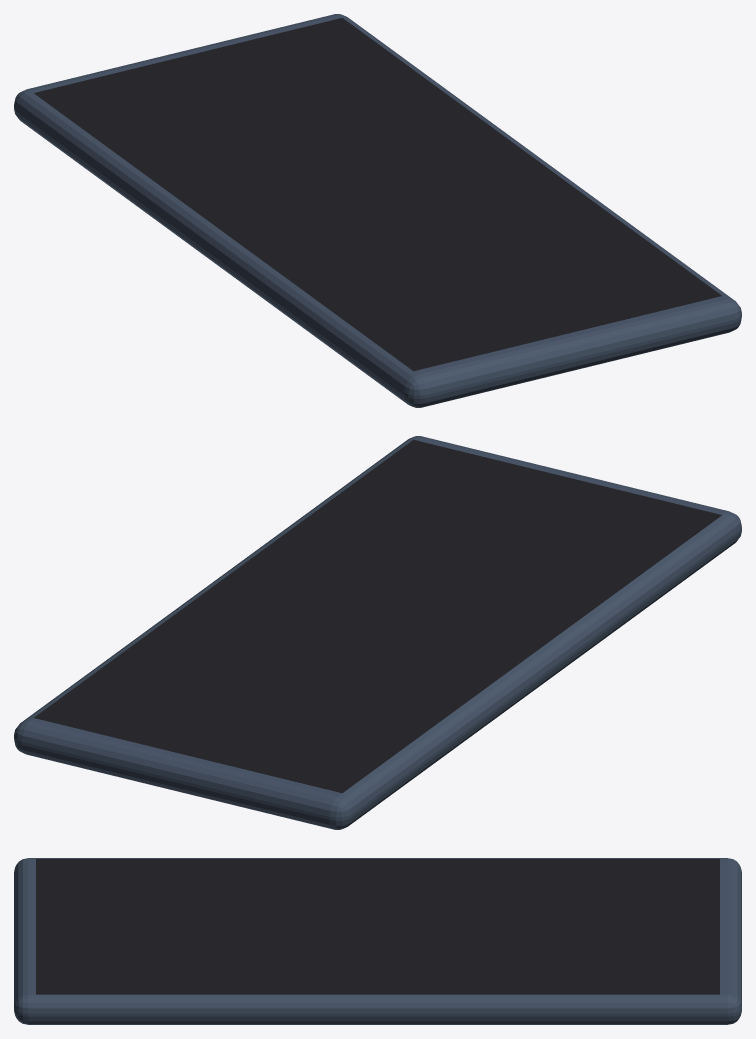
Rendered from vivo-y-model-49-budget-2025.glb.
The picture shows the model from 3 angles, top to bottom: view 1: azimuth 30°, elevation 25°; view 2: azimuth 150°, elevation 25°; view 3: azimuth 270°, elevation 25°; orthographic projection. The views are drawn at different scales.
Parts seen in each view (by area): view 1: Phone_Screen, Phone_Body; view 2: Phone_Screen, Phone_Body; view 3: Phone_Screen, Phone_Body.
Part boxes in pixels (x1,y1,x2,y2): Phone_Screen: [34, 18, 721, 371]; Phone_Body: [14, 14, 741, 407]; Phone_Screen: [34, 440, 721, 793]; Phone_Body: [14, 436, 741, 829]; Phone_Screen: [36, 859, 719, 994]; Phone_Body: [14, 858, 741, 1024].
Bounding box in the file's own units: 0.0779 × 0.0072 × 0.1625.
